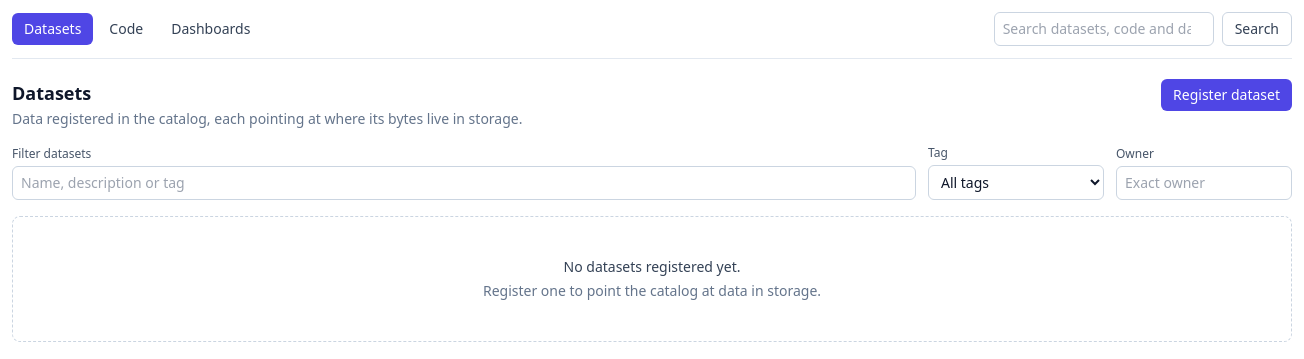
Test: search › submits to a results page with its own URL and groups all three asset types
This screenshot has width=1304, height=359.
Type "order" into the search field named "Search the catalog". click: (1104, 29)
box: [994,12,1214,46]
Then press Enter
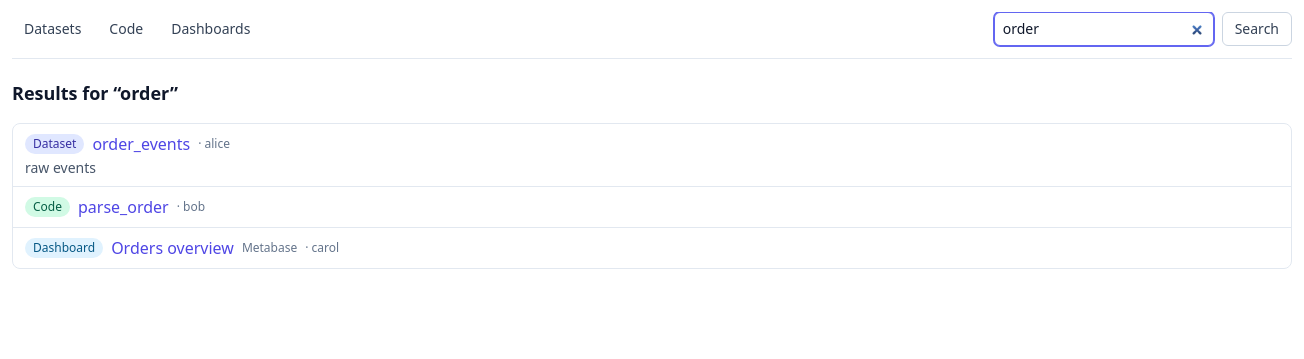
Result: the heading "Results for “order”" is shown at [12,79,178,107]
Result: the text "Metabase" is shown at [242,240,297,256]
Result: the text "Dashboard" is shown at [25,238,103,258]
